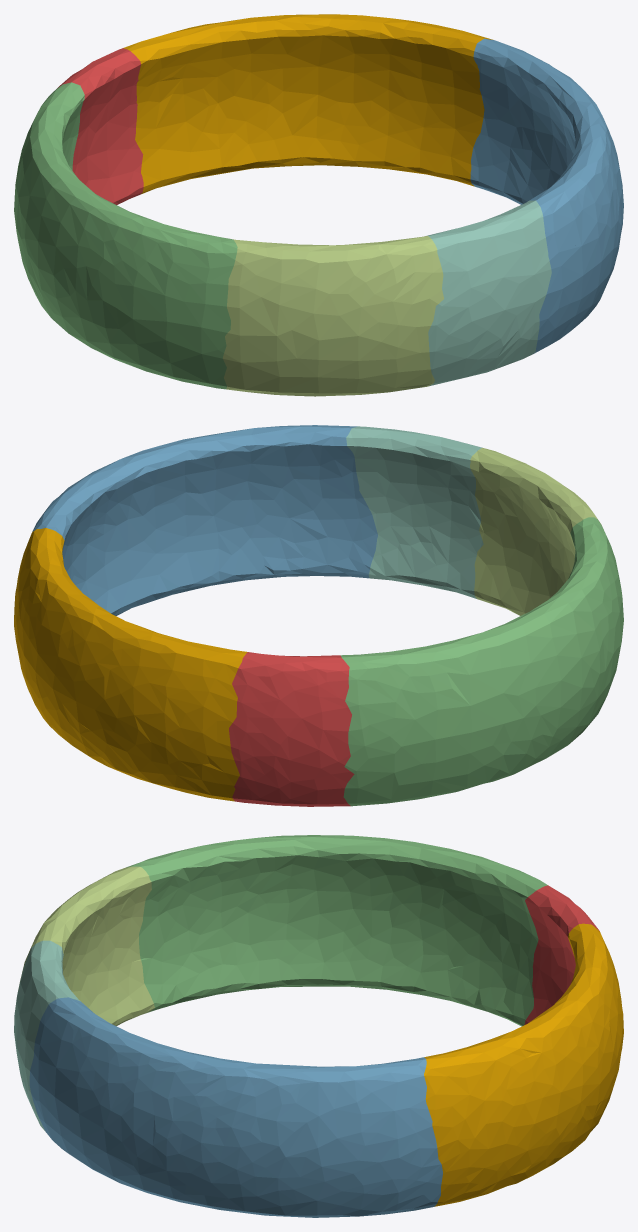
File: fractured_8_6pcs.glb
3 views of the same model, one above another, from view 1: azimuth 30°, elevation 25°; view 2: azimuth 150°, elevation 25°; view 3: azimuth 270°, elevation 25° (orthographic).
Visible parts, largest first — view 1: piece_0.obj, piece_3.obj, piece_5.obj, piece_2.obj, piece_4.obj, piece_1.obj; view 2: piece_2.obj, piece_3.obj, piece_0.obj, piece_4.obj, piece_1.obj, piece_5.obj; view 3: piece_2.obj, piece_3.obj, piece_0.obj, piece_5.obj, piece_1.obj, piece_4.obj.
Boxes of the visible parts, x1,y1,x2,y2 form: piece_0.obj: (123, 14, 492, 194); piece_3.obj: (14, 82, 237, 389); piece_5.obj: (222, 236, 443, 396); piece_2.obj: (470, 38, 623, 354); piece_4.obj: (427, 200, 551, 386); piece_1.obj: (57, 48, 143, 204); piece_2.obj: (32, 425, 377, 615); piece_3.obj: (340, 517, 623, 806); piece_0.obj: (14, 528, 247, 801); piece_4.obj: (346, 426, 483, 598); piece_1.obj: (229, 652, 354, 806); piece_5.obj: (470, 448, 601, 615); piece_2.obj: (29, 997, 442, 1217); piece_3.obj: (126, 835, 547, 1026); piece_0.obj: (424, 923, 623, 1206); piece_5.obj: (18, 866, 154, 1026); piece_1.obj: (524, 885, 599, 1024); piece_4.obj: (14, 940, 80, 1131).
Bounding box in the file's own units: 1 × 0.267 × 0.9974.
